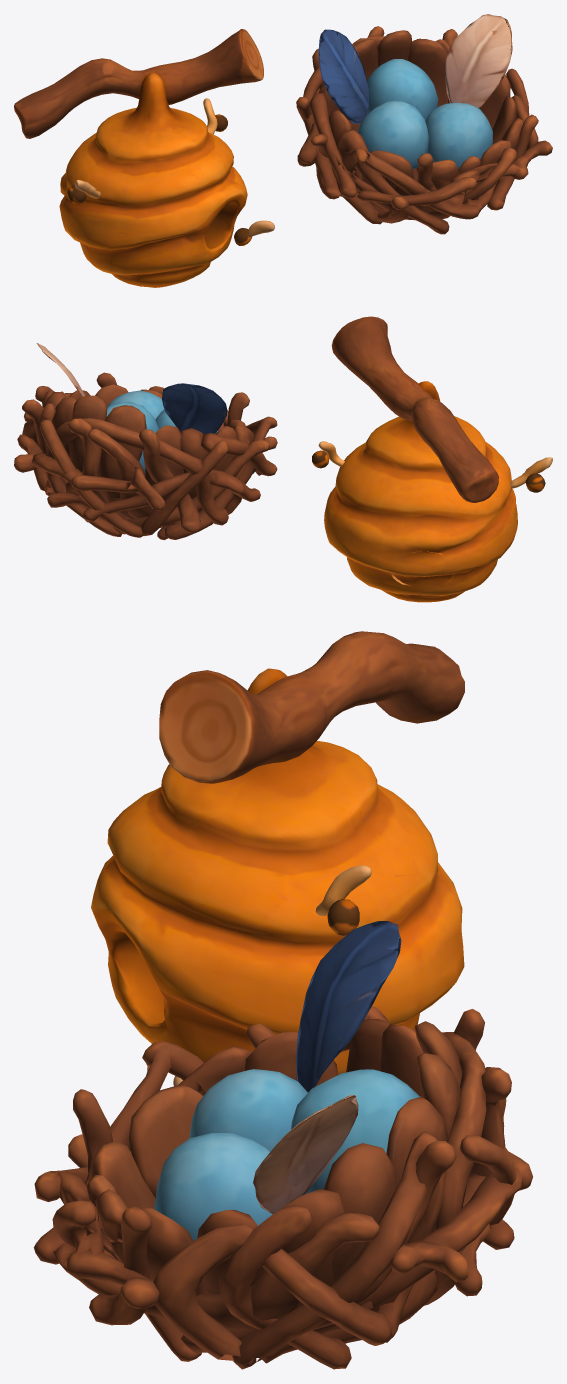
Rendered from Meshy_AI_Hive_and_Nest_1105124527_texture.glb.
3 views of the same model, one above another, from view 1: azimuth 30°, elevation 25°; view 2: azimuth 150°, elevation 25°; view 3: azimuth 270°, elevation 25° (orthographic). The views are drawn at different scales.
Visible parts, largest first — view 1: geometry_0; view 2: geometry_0; view 3: geometry_0.
Boxes of the visible parts, x1,y1,x2,y2 form: geometry_0: [14, 14, 552, 287]; geometry_0: [14, 316, 552, 602]; geometry_0: [33, 631, 532, 1369].
Bounding box in the file's own units: 1 × 0.4931 × 0.4616.
Materials: 1 (1 with a texture image).
